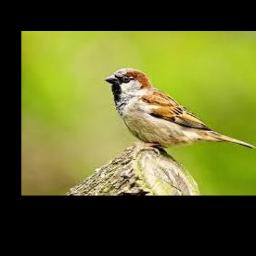Sparrow: (104, 68, 256, 156)
